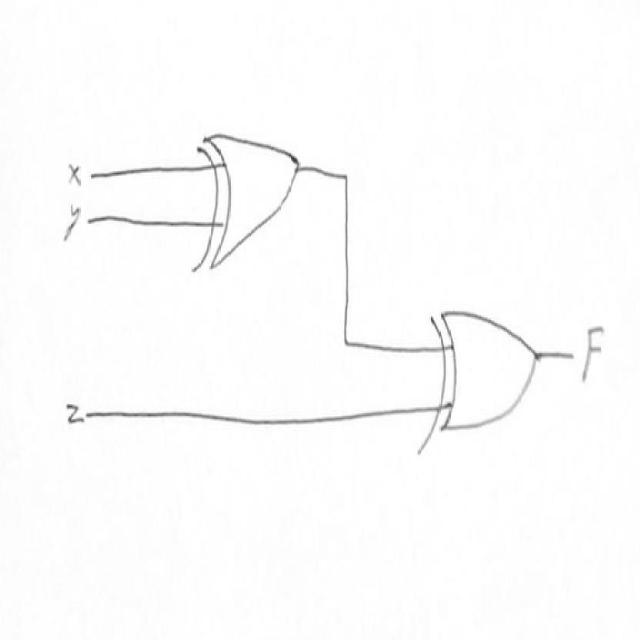XOR: (404, 293, 552, 462), (182, 96, 316, 274)
